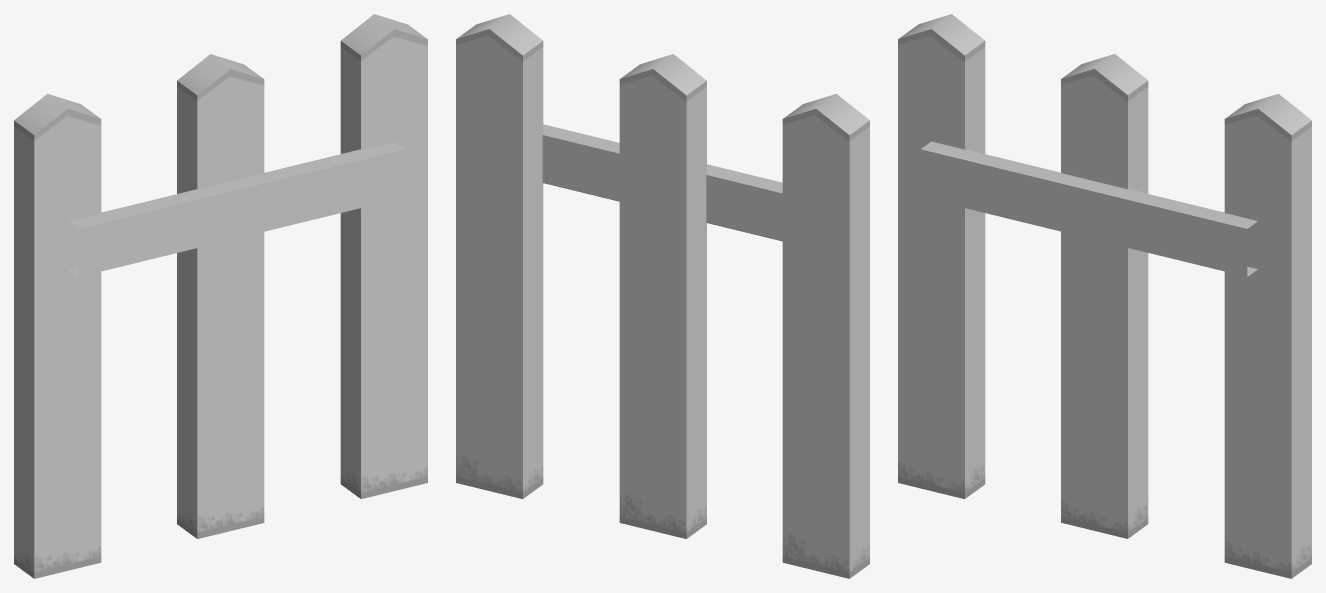
Rendered from city_white_picket_fence_01.fbx.
3 views of the same model, side by side, from view 1: azimuth 30°, elevation 25°; view 2: azimuth 150°, elevation 25°; view 3: azimuth 330°, elevation 25° (orthographic).
Visible parts, largest first — view 1: polySurface199; view 2: polySurface199; view 3: polySurface199.
Part boxes in pixels (x1=…): polySurface199: x1=14, y1=14, x2=427, y2=578; polySurface199: x1=456, y1=14, x2=869, y2=578; polySurface199: x1=898, y1=14, x2=1311, y2=578.
Bounding box in the file's own units: 0.8432 × 0.9462 × 0.1155.
